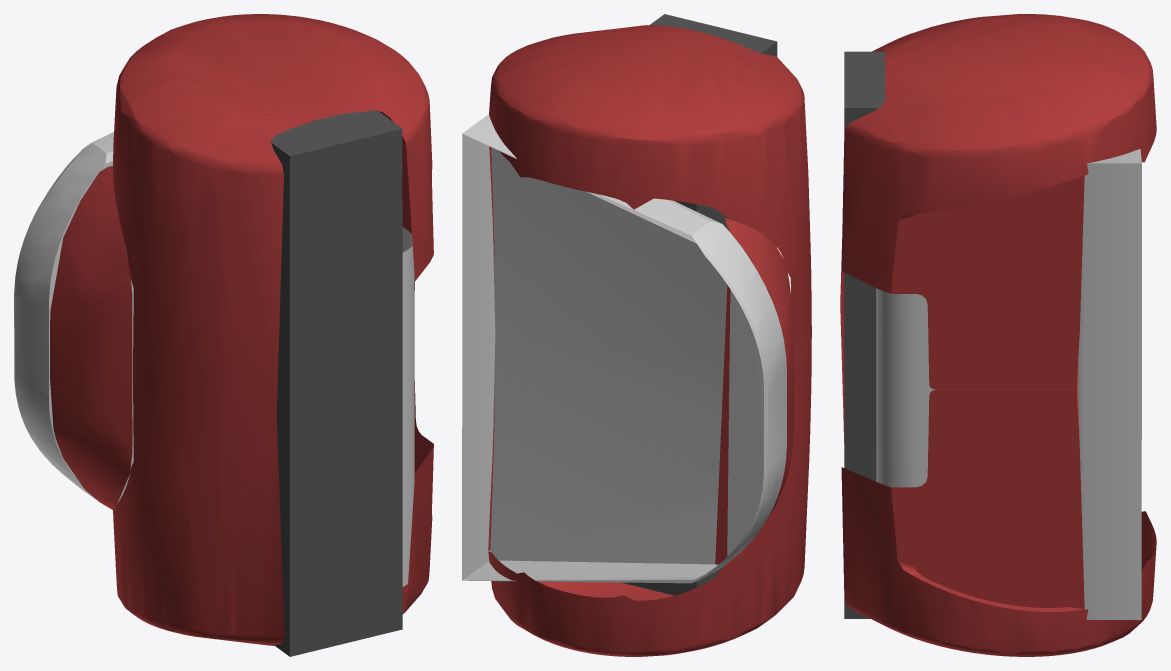
Rendered from baxter_parallel_gripper.dae.
3 renders of one model, left to right at view 1: azimuth 30°, elevation 25°; view 2: azimuth 150°, elevation 25°; view 3: azimuth 270°, elevation 25°, orthographic. The views are drawn at different scales.
Visible parts, largest first — view 1: BaxterGripper_visible; view 2: BaxterGripper_visible; view 3: BaxterGripper_visible.
Part boxes in pixels (bbox=[...]): BaxterGripper_visible: bbox=[14, 14, 433, 656]; BaxterGripper_visible: bbox=[462, 14, 811, 656]; BaxterGripper_visible: bbox=[840, 14, 1156, 656].
Size of the model in its own units: 0.065 by 0.1055 by 0.0534.
